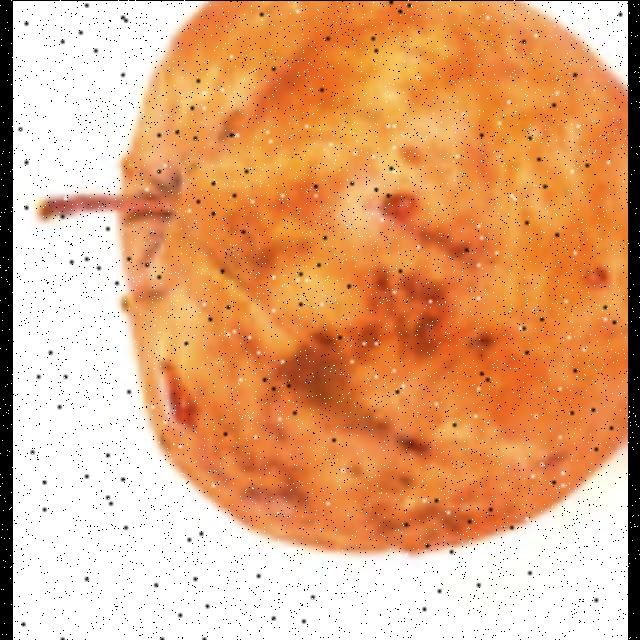Apel Tidak Segar: (116, 0, 628, 564)
